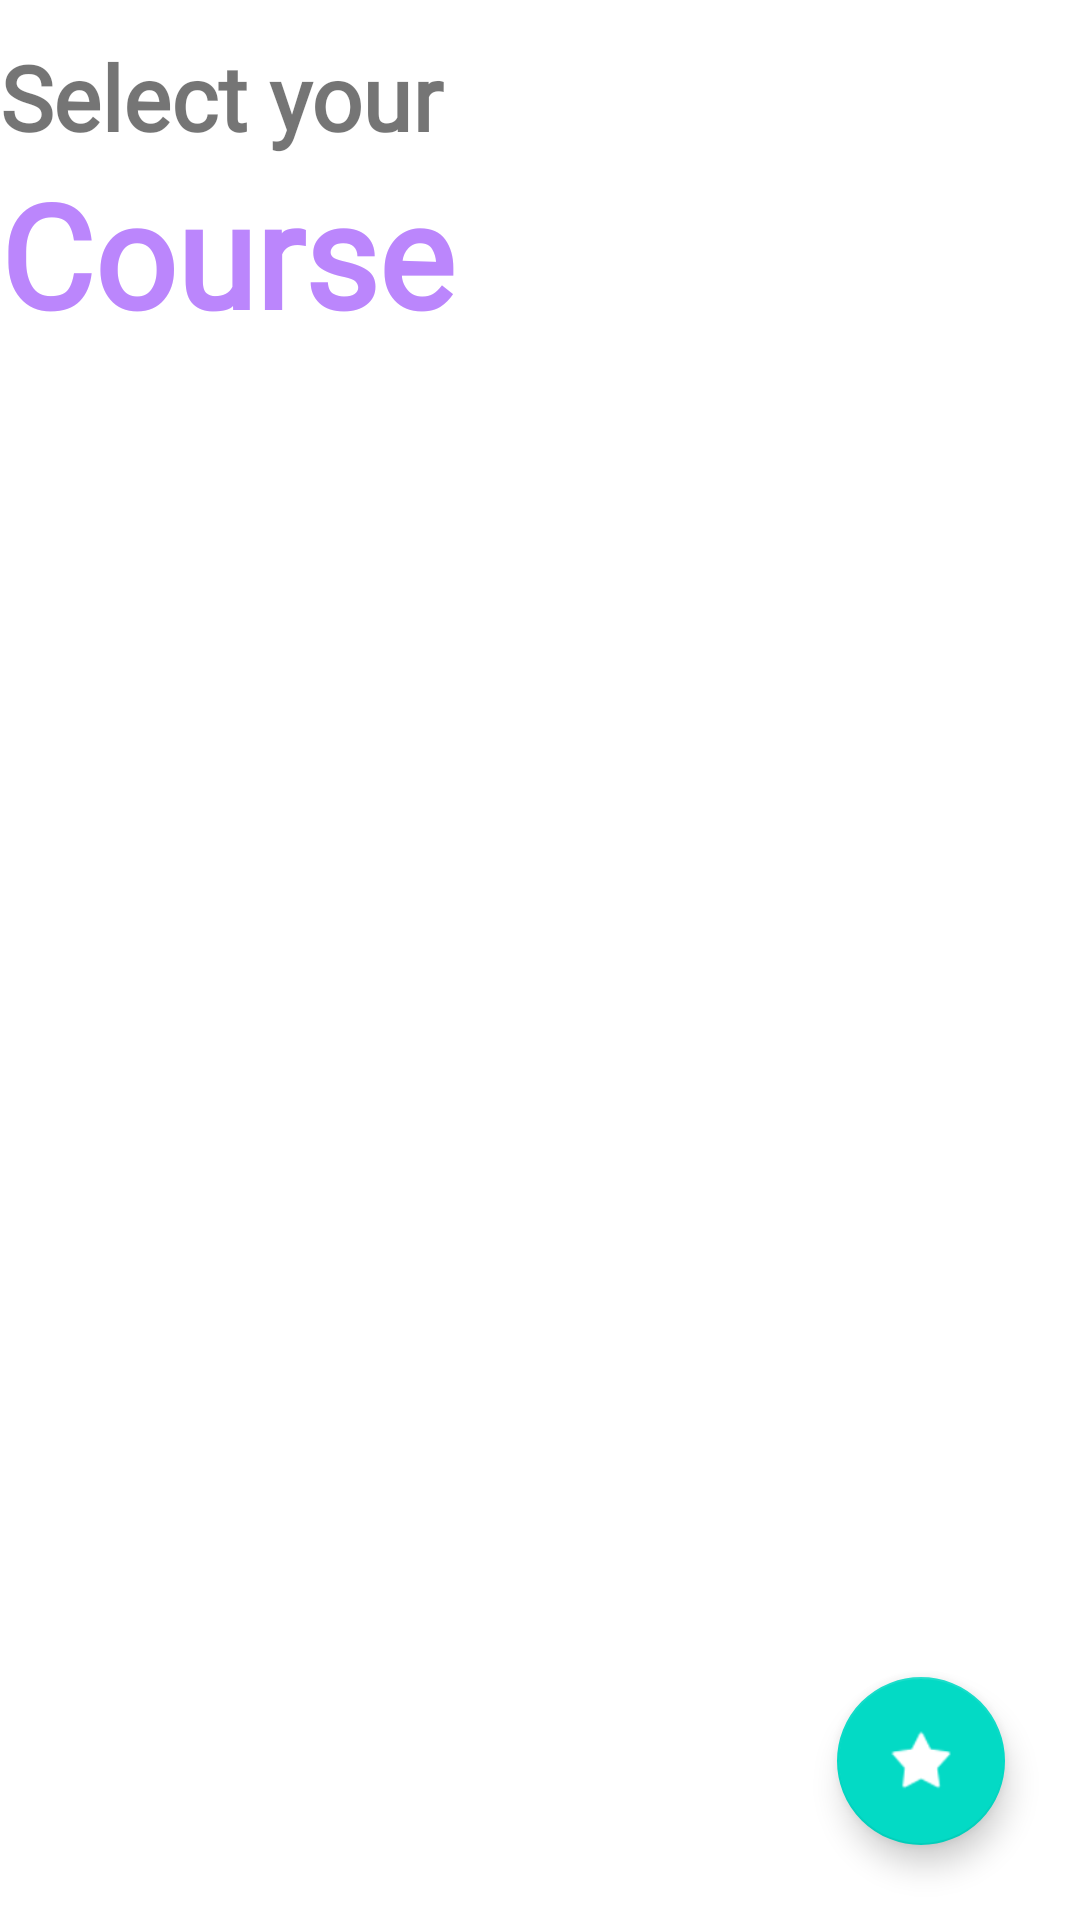

Screen size 1080*1920. Icon name, then its center in pixels as (x,y):
star on: (921,1761)
